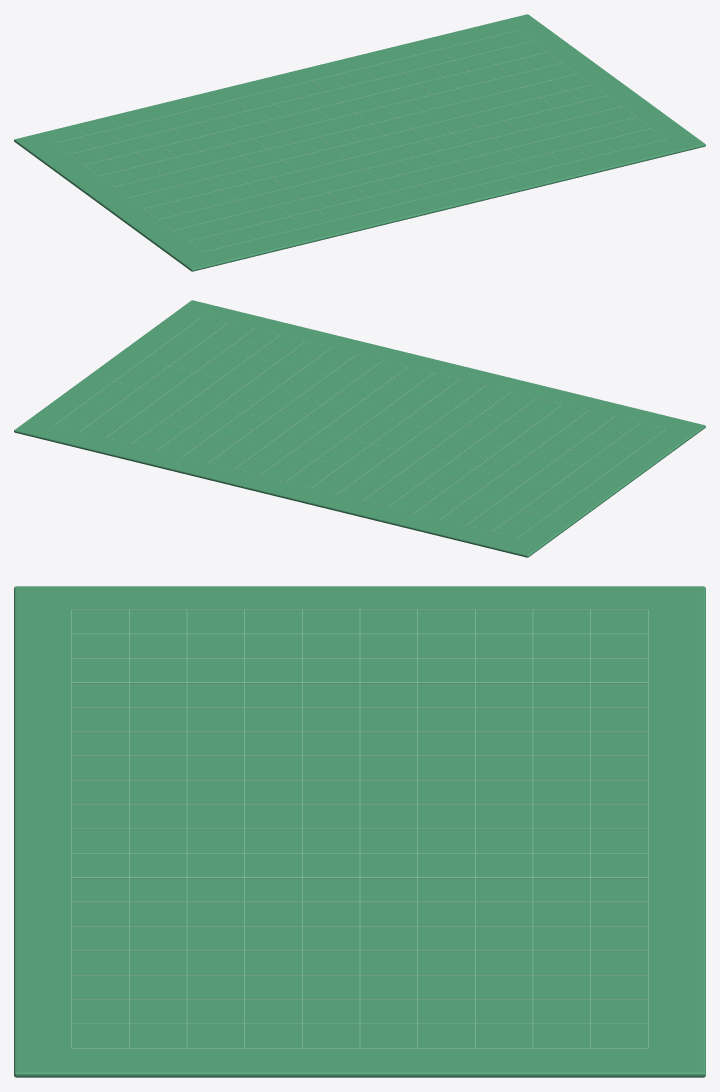
Rendered from workbench_mat.glb.
3 views of the same model, one above another, from view 1: azimuth 30°, elevation 25°; view 2: azimuth 150°, elevation 25°; view 3: azimuth 270°, elevation 25° (orthographic). The views are drawn at different scales.
Parts seen in each view (by area): view 1: Green_cutting_mat, Grid_horizontal.002, Grid_horizontal.001, Grid_horizontal.005, Grid_horizontal, Grid_horizontal.003, Grid_horizontal.010, Grid_horizontal.004, Grid_horizontal.007, Grid_horizontal.008, Grid_horizontal.009, Grid_horizontal.006; view 2: Green_cutting_mat, Grid_horizontal.008, Grid_horizontal.009, Grid_horizontal, Grid_horizontal.005, Grid_horizontal.010, Grid_horizontal.001, Grid_horizontal.006, Grid_horizontal.007, Grid_horizontal.002, Grid_horizontal.003, Grid_horizontal.004; view 3: Green_cutting_mat, Grid_vertical.012, Grid_vertical.003, Grid_vertical.011, Grid_vertical.001, Grid_vertical.006, Grid_vertical.014, Grid_vertical.009, Grid_vertical.017, Grid_horizontal.002, Grid_horizontal.005, Grid_horizontal.008.
Part boxes in pixels (x1,y1,x2,y2): Green_cutting_mat: [14, 14, 705, 271]; Grid_horizontal.002: [84, 52, 546, 165]; Grid_horizontal.001: [69, 41, 531, 154]; Grid_horizontal.005: [128, 85, 590, 197]; Grid_horizontal: [54, 30, 517, 143]; Grid_horizontal.003: [99, 63, 561, 176]; Grid_horizontal.010: [202, 139, 665, 252]; Grid_horizontal.004: [114, 74, 576, 186]; Grid_horizontal.007: [158, 106, 620, 219]; Grid_horizontal.008: [173, 117, 635, 230]; Grid_horizontal.009: [188, 128, 650, 241]; Grid_horizontal.006: [144, 96, 605, 208]; Green_cutting_mat: [14, 300, 705, 557]; Grid_horizontal.008: [173, 338, 635, 451]; Grid_horizontal.009: [188, 327, 650, 440]; Grid_horizontal: [54, 425, 517, 538]; Grid_horizontal.005: [129, 371, 590, 483]; Grid_horizontal.010: [202, 316, 665, 429]; Grid_horizontal.001: [69, 414, 531, 527]; Grid_horizontal.006: [143, 360, 605, 472]; Grid_horizontal.007: [158, 349, 620, 462]; Grid_horizontal.002: [84, 403, 546, 516]; Grid_horizontal.003: [99, 392, 561, 505]; Grid_horizontal.004: [114, 382, 575, 494]; Green_cutting_mat: [14, 586, 705, 1077]; Grid_vertical.012: [72, 901, 647, 902]; Grid_vertical.003: [72, 682, 647, 683]; Grid_vertical.011: [72, 877, 647, 878]; Grid_vertical.001: [72, 633, 647, 634]; Grid_vertical.006: [72, 755, 647, 756]; Grid_vertical.014: [72, 950, 647, 951]; Grid_vertical.009: [72, 828, 647, 829]; Grid_vertical.017: [72, 1023, 647, 1024]; Grid_horizontal.002: [532, 610, 533, 1047]; Grid_horizontal.005: [359, 610, 360, 1047]; Grid_horizontal.008: [186, 610, 187, 1047].
Bounding box in the file's own units: 1 × 0.0055 × 0.6.
